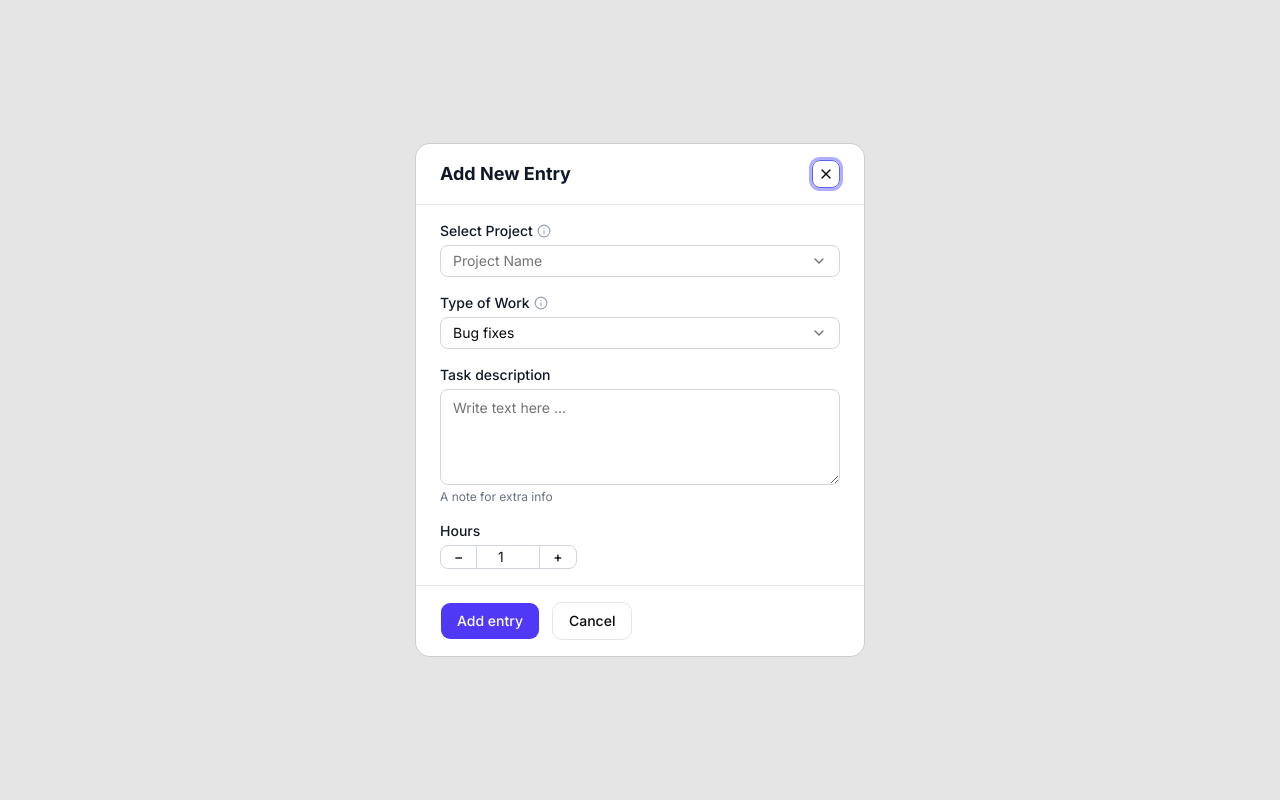
Test: EntryModal › rejects hours with more than 2 decimal places
Click the dropdown named "select project" at (498, 260), box [440, 245, 840, 277]
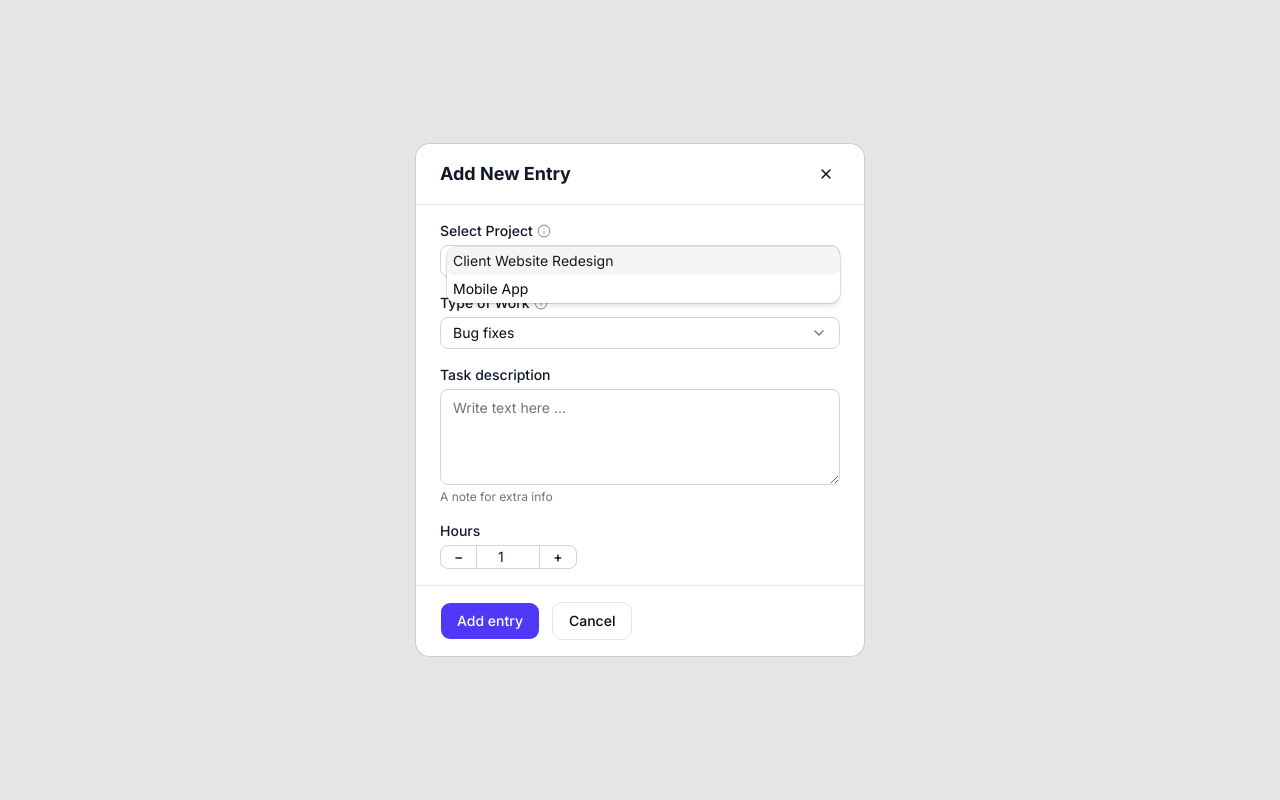
Click the option "Mobile App" at (491, 288), box [453, 280, 528, 297]
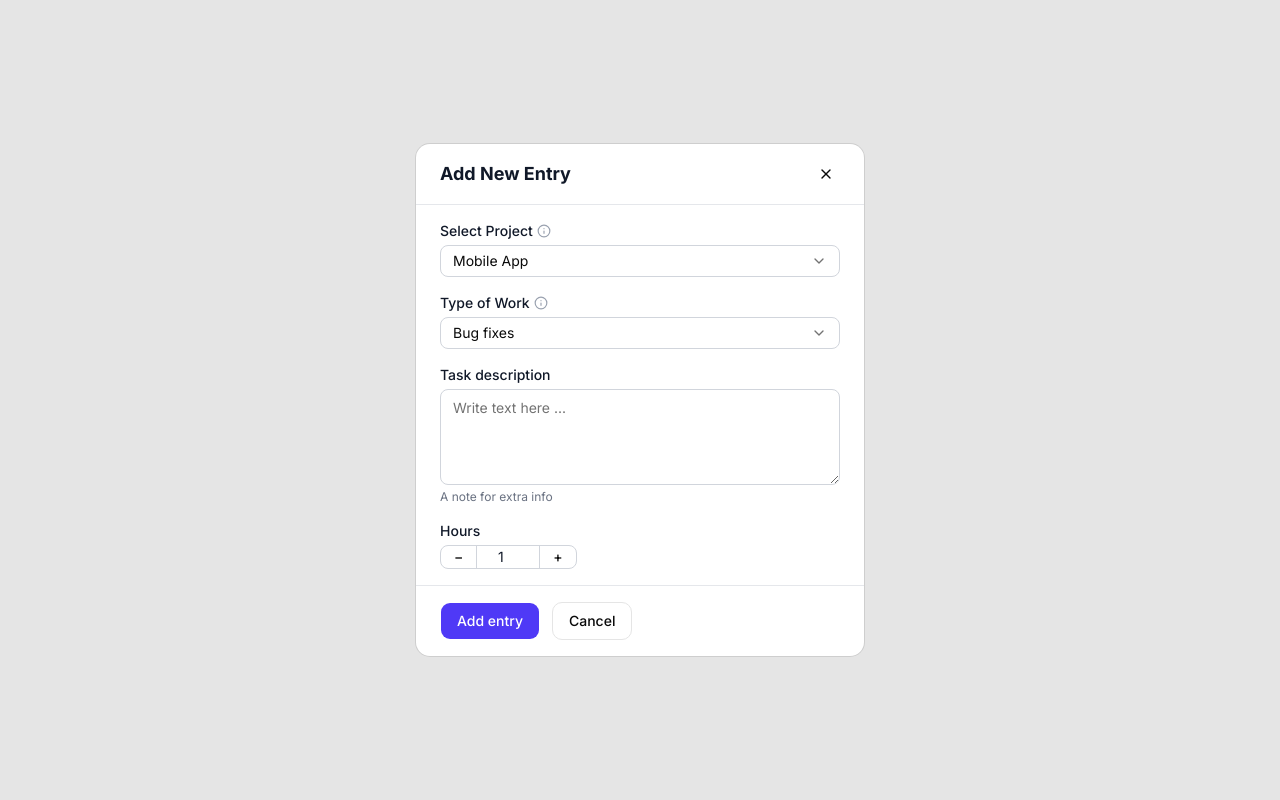
Type "Something" into the text box labelled "Task description" at (640, 437), box [440, 389, 840, 485]
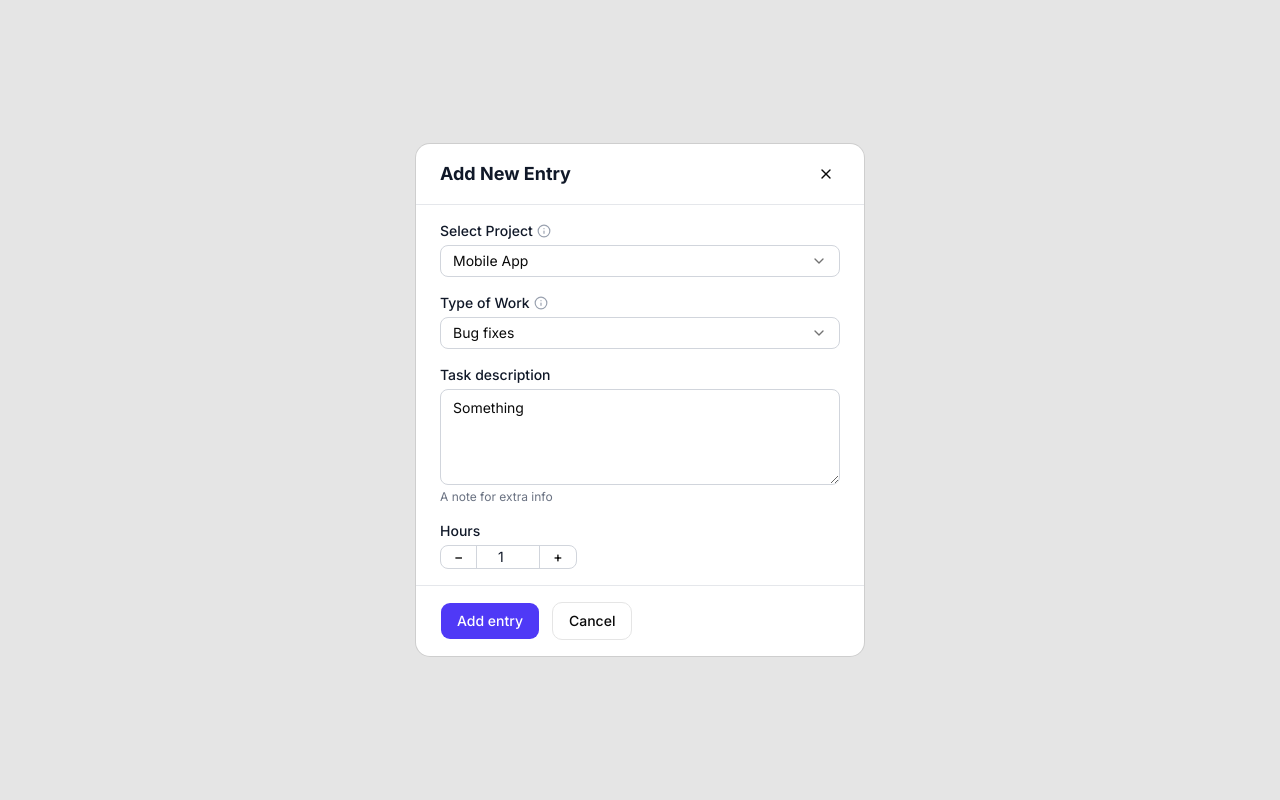
Replace the text in the number field labelled "Hours" with "1.123" at (508, 557), box [476, 546, 540, 568]
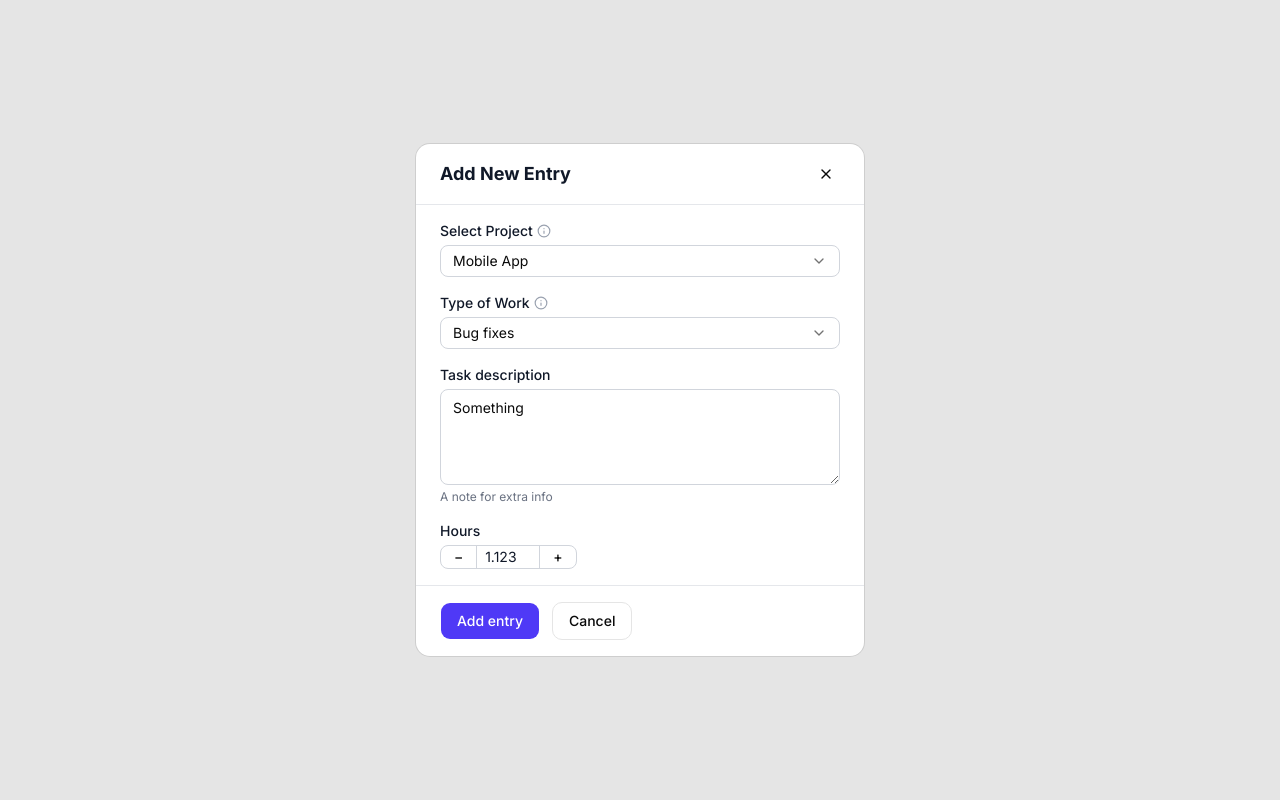
Click the button "Add entry" at (490, 621), box [440, 602, 540, 640]
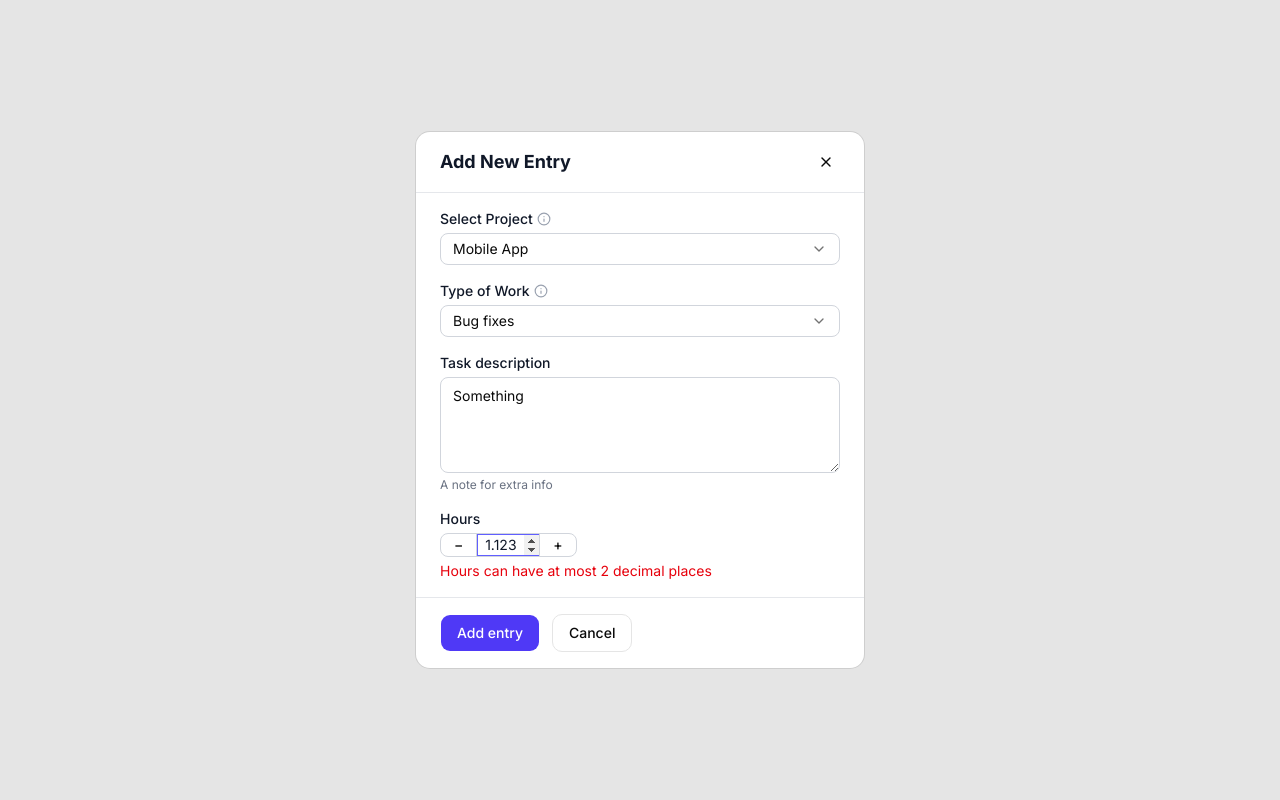
Expected: the text "Hours can have at most 2 decimal places" is shown, [440, 562, 712, 579]
